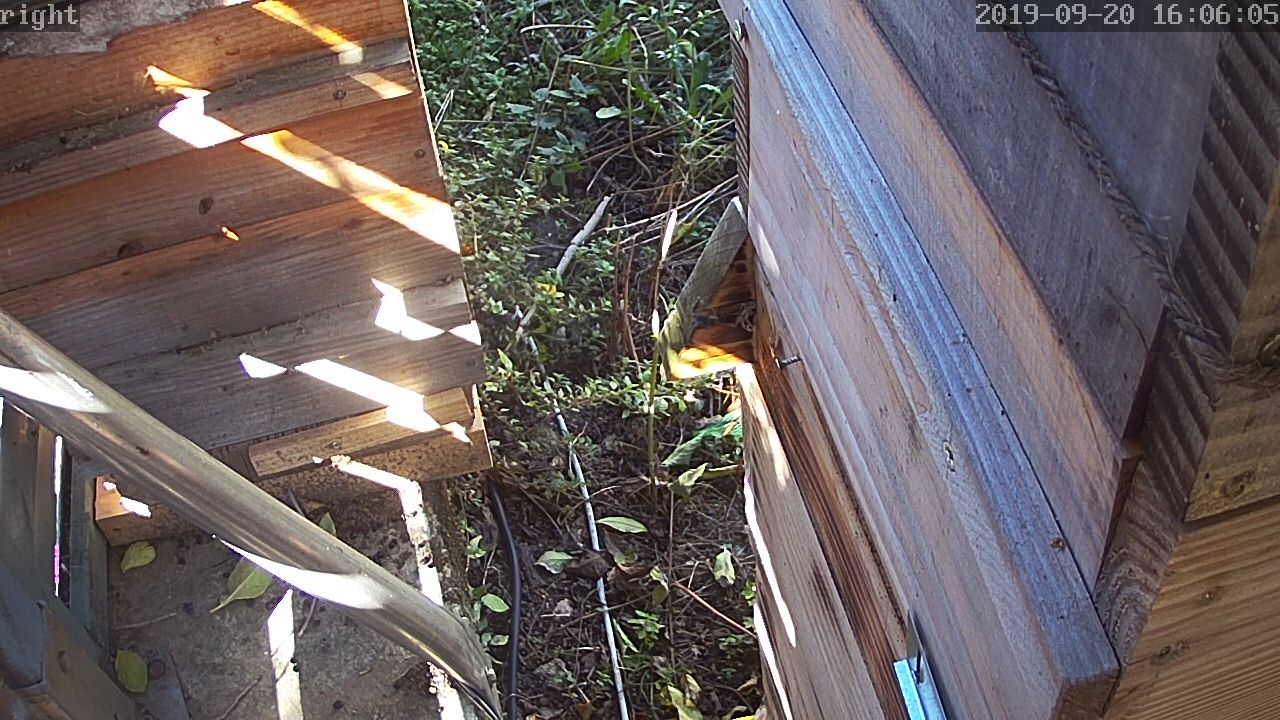hornet: (30, 3, 1252, 720)
